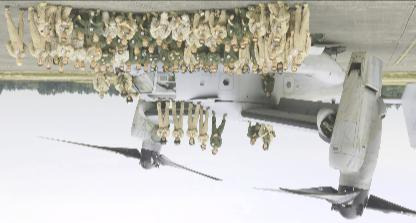Tornado: (37, 34, 415, 220)
